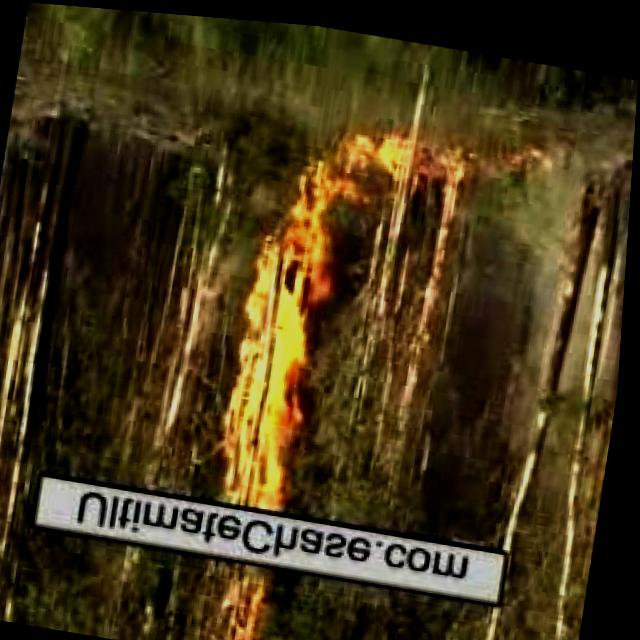Fire: (224, 234, 337, 501), (284, 105, 471, 248), (229, 564, 280, 640)
